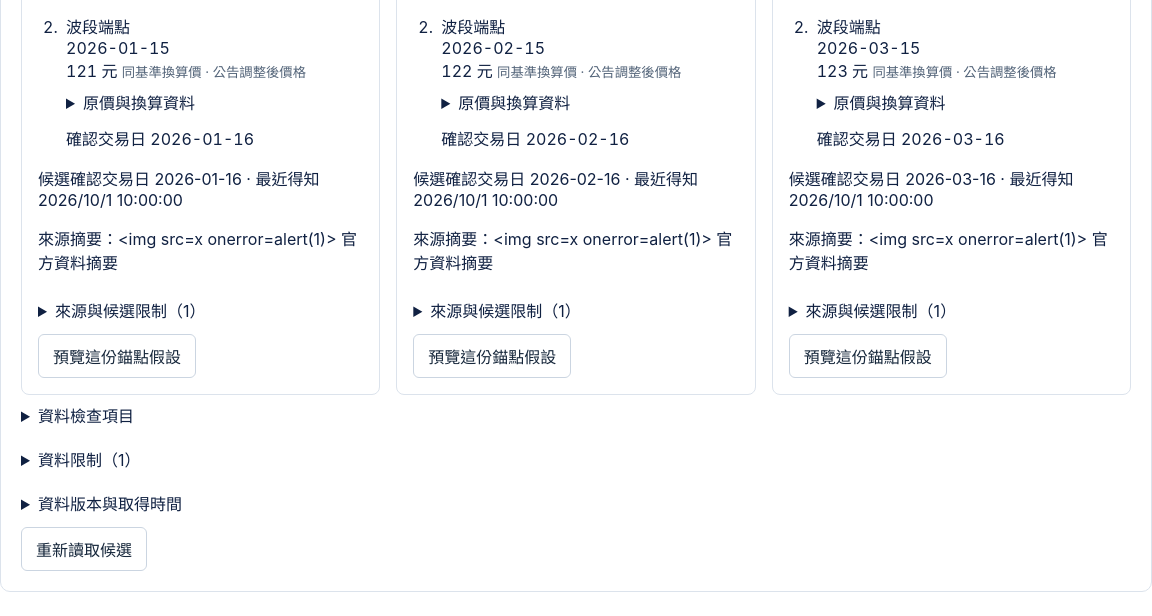
Scenario: AutomaticWaveCandidates › invalidates the concrete preview after a stale draft conflict
(page scrolled)
Click the button "預覽這份錨點假設" below "121 元": (117, 356) [38,334,196,378]
(page scrolled)
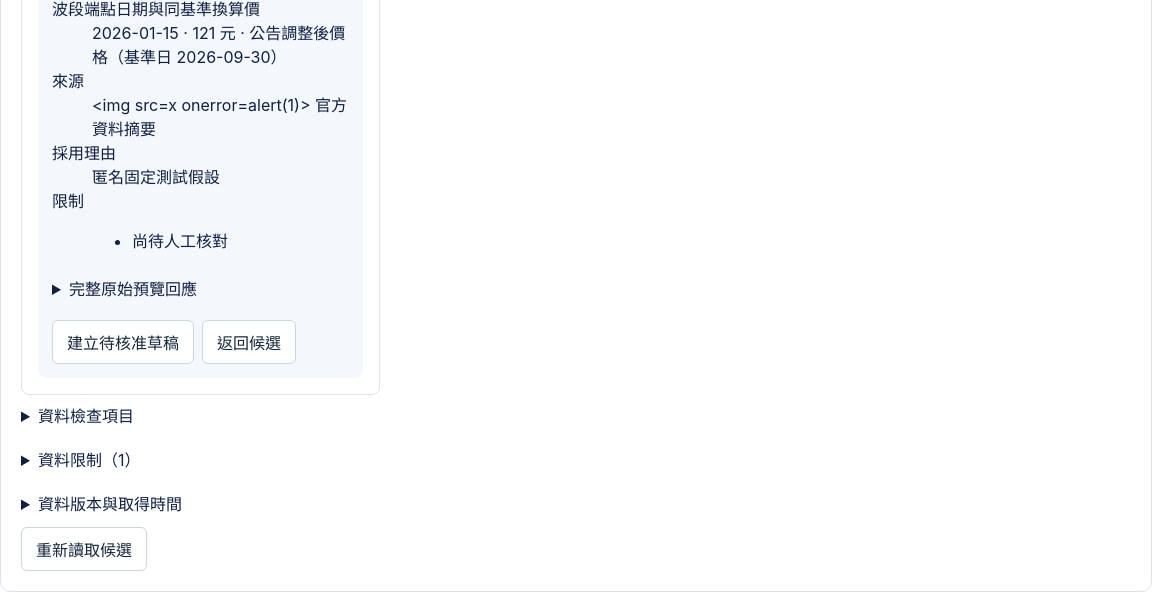
Click the button "建立待核准草稿": (123, 342) [52,320,194,364]
(page scrolled)
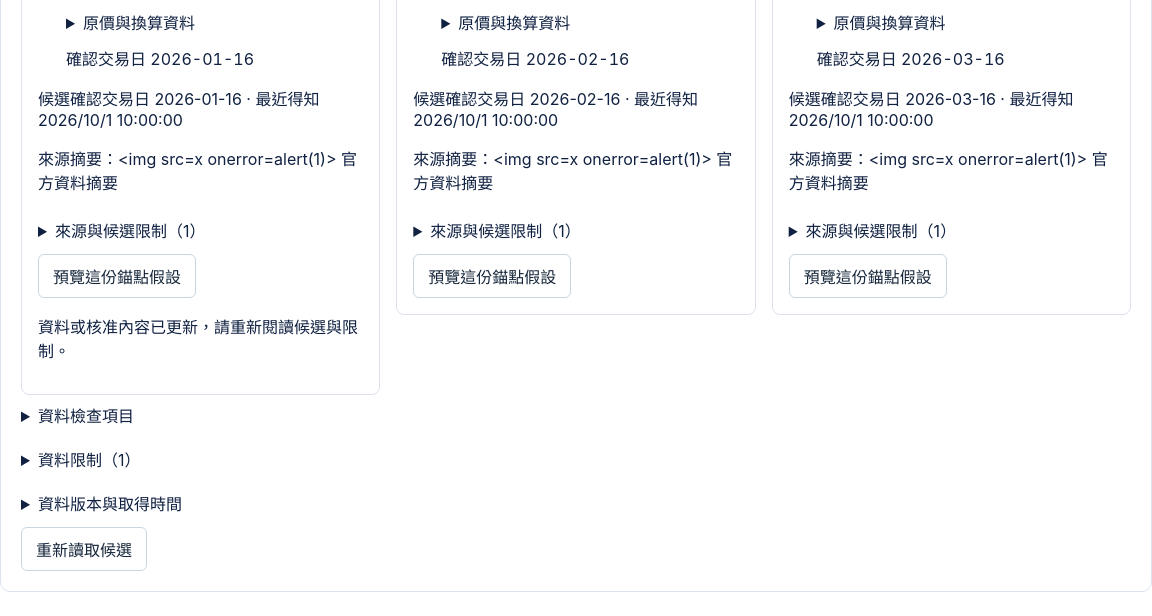
expect the text "資料或核准內容已更新，請重新閱讀候選與限制。" is shown: met, box [38,314,363,362]
expect the button "建立待核准草稿" is gone: met
expect the button "預覽這份錨點假設" below "121 元" is shown: met, box [38,254,196,298]
